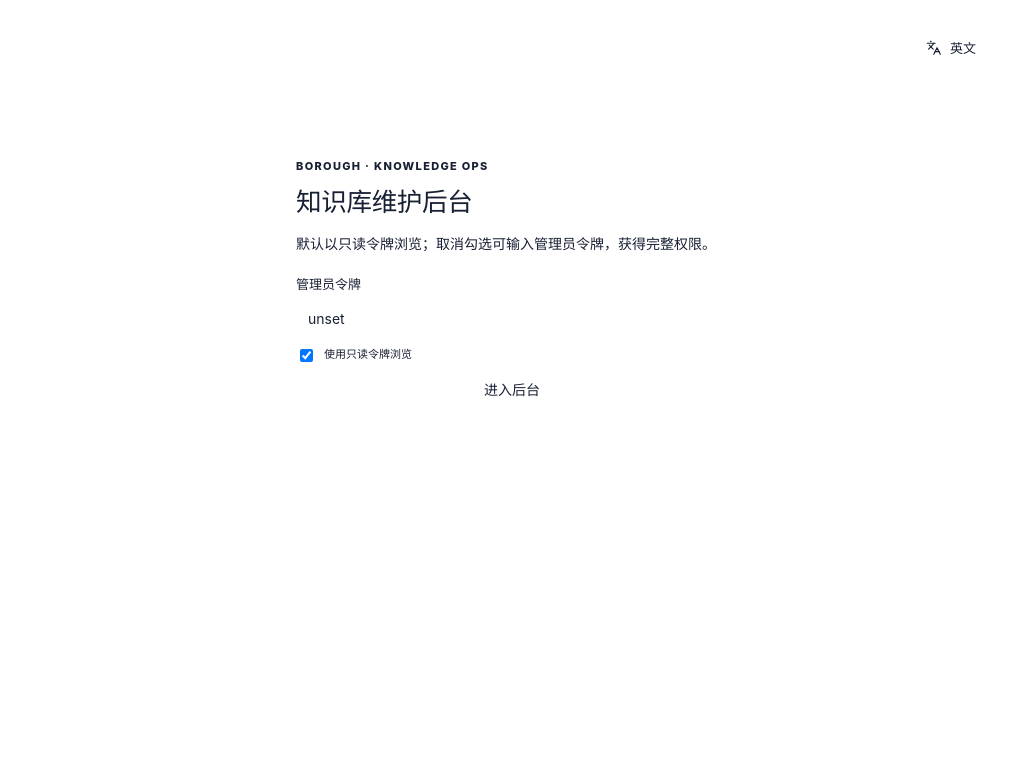
it: KnowledgeBaseView › 无效管理员令牌后保留输入入口，允许直接重试
Replace the text in the field labelled "管理员令牌" with "bad-token" at (512, 320), box [296, 302, 728, 338]
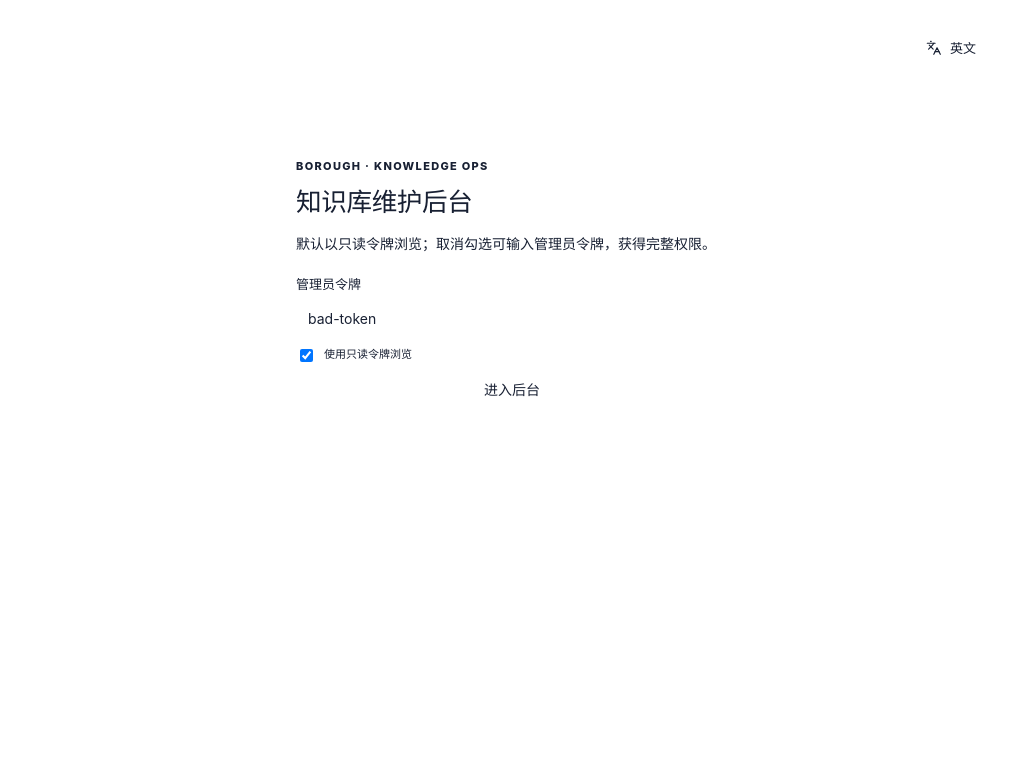
Submit the form, box [296, 275, 728, 409]
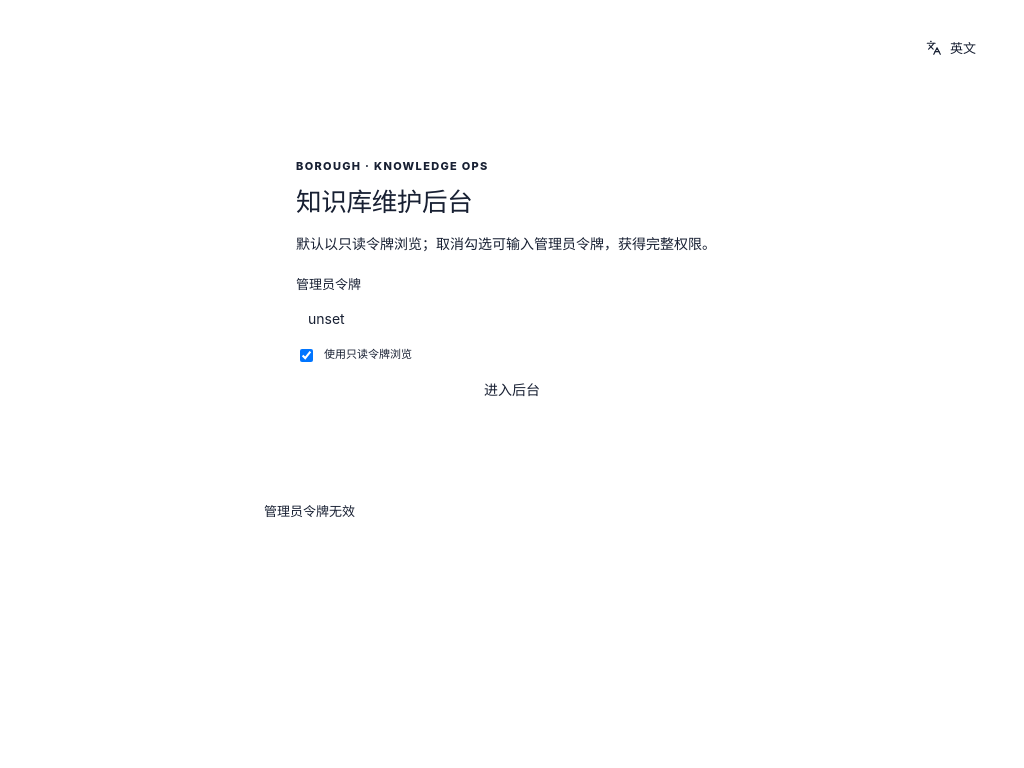
Check: the field labelled "管理员令牌" is shown, box [296, 302, 728, 338]
Check: the text "管理员令牌无效" is shown, box [264, 503, 355, 519]
